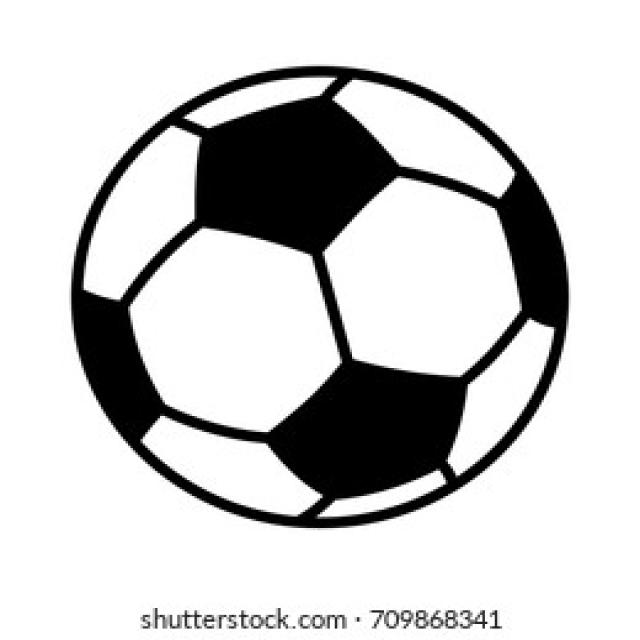soccer ball: (76, 69, 566, 528)
